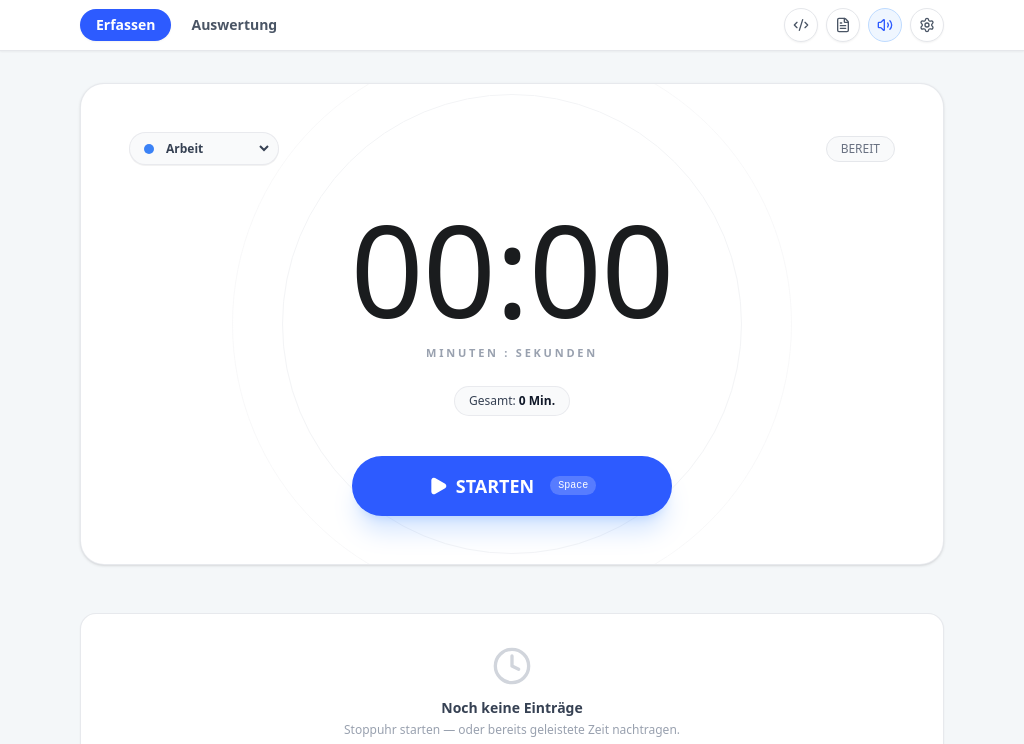
Test: App persistence warnings › can be dismissed by the user
Click the button titled "Signaltöne an" at (885,25), box [868,8,902,42]
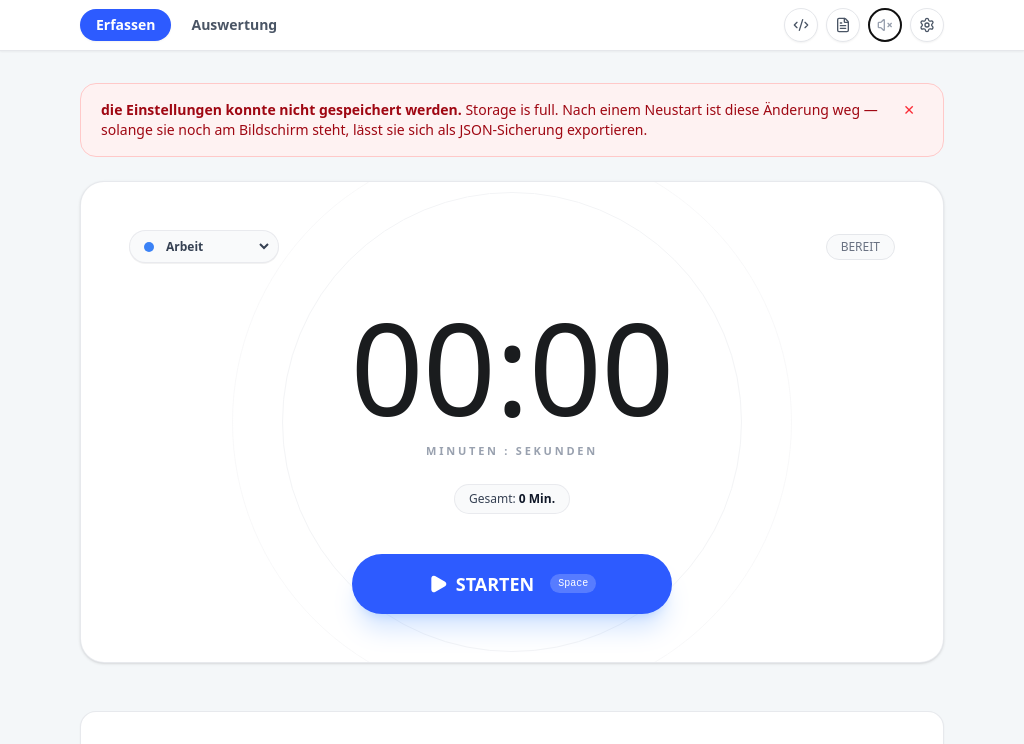
Result: the text "die Einstellungen konnte nicht gespeichert werden." is shown at [101,100,462,119]
Click the button named "Hinweis schließen" at (909,110), box [895,100,923,120]
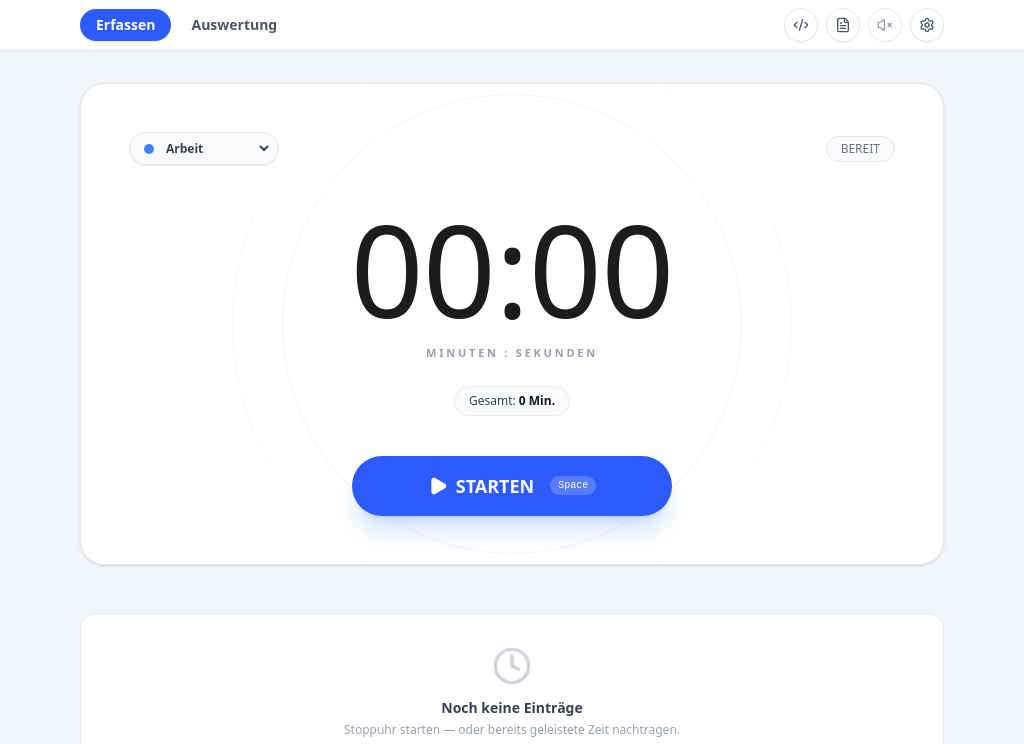
Result: the text "Einstellungen konnte nicht gespeichert werden" is gone
